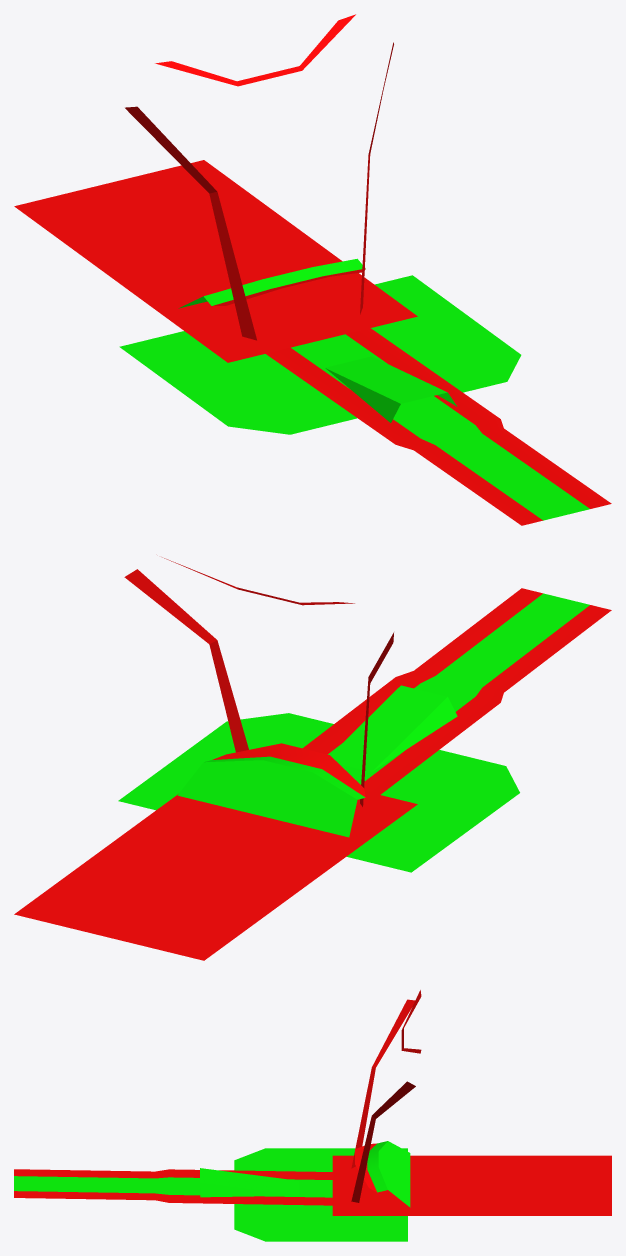
The model's file is FPV_Starship_Rhyno.fbx.
The picture shows the model from 3 angles, top to bottom: view 1: azimuth 30°, elevation 25°; view 2: azimuth 150°, elevation 25°; view 3: azimuth 270°, elevation 25°; orthographic projection. The views are drawn at different scales.
Visible parts, largest first — view 1: FPV_MainBody_Rhyno; view 2: FPV_MainBody_Rhyno; view 3: FPV_MainBody_Rhyno.
Part boxes in pixels (left/top/right/bottom): FPV_MainBody_Rhyno: left=14, top=14, right=611, bottom=525; FPV_MainBody_Rhyno: left=14, top=557, right=611, bottom=960; FPV_MainBody_Rhyno: left=14, top=990, right=611, bottom=1241.
Size of the model in its own units: 2.13 by 1.88 by 5.76.
